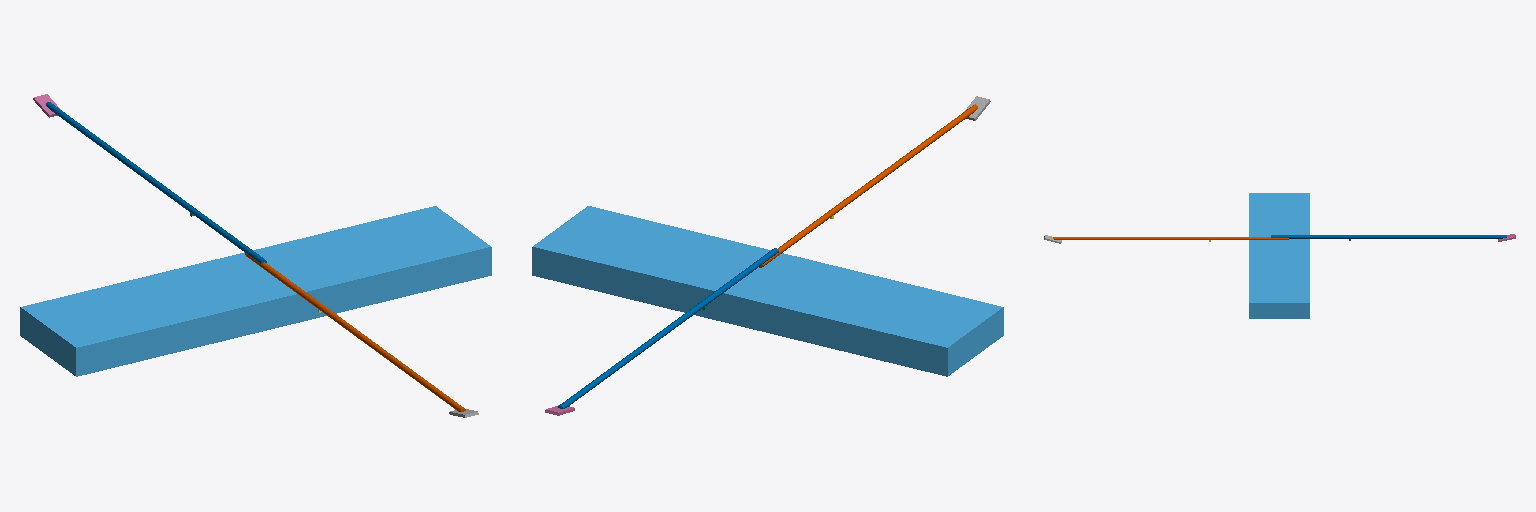
robot.urdf — myboat:
<?xml version="1.0" encoding="utf-8"?>
<!-- =================================================================================== -->
<!-- |    This document was autogenerated by xacro from boot1.xacro                    | -->
<!-- |    EDITING THIS FILE BY HAND IS NOT RECOMMENDED                                 | -->
<!-- =================================================================================== -->
<robot name="myboat" xmlns:xacro="http://www.ros.org/wiki/xacro">
  <!-- Constants for robot dimensions -->
  <gazebo>
    <self_collide>1</self_collide>
  </gazebo>
  <!-- ros_control plugin -->
  <gazebo>
    <plugin filename="libgazebo_ros_control.so" name="gazebo_ros_control">
      <robotNamespace>/boot1</robotNamespace>
      <robotSimType>gazebo_ros_control/DefaultRobotHWSim</robotSimType>
    </plugin>
  </gazebo>
  <gazebo reference="skiff">
    <material>Gazebo/Grey</material>
  </gazebo>
  <gazebo reference="starboard_rowlock">
    <mu1>0.01</mu1>
    <mu2>0.01</mu2>
    <material>Gazebo/Red</material>
  </gazebo>
  <gazebo reference="port_rowlock">
    <mu1>0.01</mu1>
    <mu2>0.01</mu2>
    <material>Gazebo/Red</material>
  </gazebo>
  <gazebo reference="starboard_oar">
    <mu1>0.01</mu1>
    <mu2>0.01</mu2>
    <material>Gazebo/Green</material>
  </gazebo>
  <gazebo reference="port_oar">
    <mu1>0.01</mu1>
    <mu2>0.01</mu2>
    <material>Gazebo/Green</material>
  </gazebo>
  <gazebo reference="starboard_blade">
    <mu1>0.01</mu1>
    <mu2>0.01</mu2>
    <material>Gazebo/Indigo</material>
  </gazebo>
  <gazebo reference="port_blade">
    <mu1>0.01</mu1>
    <mu2>0.01</mu2>
    <material>Gazebo/Indigo</material>
  </gazebo>
  <material name="black">
    <color rgba="0.0 0.0 0.0 1.0"/>
  </material>
  <material name="blue">
    <color rgba="0.0 0.0 0.8 1.0"/>
  </material>
  <material name="green">
    <color rgba="0.0 0.8 0.0 1.0"/>
  </material>
  <material name="grey">
    <color rgba="0.2 0.2 0.2 1.0"/>
  </material>
  <material name="orange">
    <color rgba="1.0 0.423529411765 0.0392156862745 1.0"/>
  </material>
  <material name="brown">
    <color rgba="0.870588235294 0.811764705882 0.764705882353 1.0"/>
  </material>
  <material name="red">
    <color rgba="0.8 0.0 0.0 1.0"/>
  </material>
  <material name="white">
    <color rgba="1.0 1.0 1.0 1.0"/>
  </material>
  <joint name="starboard_rowlock_joint" type="revolute">
    <parent link="skiff"/>
    <child link="starboard_rowlock"/>
    <origin rpy="0.0  0.0 0.0" xyz="0.0 0.8 0.32"/>
    <axis xyz="0 0 1"/>
    <limit effort="2000.0" lower="-1.4" upper="1.4" velocity="1.0"/>
  </joint>
  <joint name="port_rowlock_joint" type="revolute">
    <parent link="skiff"/>
    <child link="port_rowlock"/>
    <origin rpy="0.0  0.0 0.0" xyz="0.0 -0.8 0.3"/>
    <axis xyz="0 0 1"/>
    <limit effort="2000.0" lower="-1.4" upper="1.4" velocity="1.0"/>
  </joint>
  <joint name="starboard_rowlock_oar_joint" type="revolute">
    <parent link="starboard_rowlock"/>
    <child link="starboard_oar"/>
    <origin rpy="0.0  1.57079632679 -1.57079632679" xyz="0.0 0.0   0.02"/>
    <axis xyz="0 1 0"/>
    <limit effort="1000.0" lower="-0.4" upper="0.0" velocity="1.0"/>
  </joint>
  <joint name="port_rowlock_oar_joint" type="revolute">
    <parent link="port_rowlock"/>
    <child link="port_oar"/>
    <origin rpy="0.0  1.57079632679 -1.57079632679" xyz="0.0 0.0   0.02"/>
    <axis xyz="0 1 0"/>
    <limit effort="1000.0" lower="0.0" upper="0.4" velocity="1.0"/>
  </joint>
  <joint name="starboard_blade_joint" type="revolute">
    <parent link="starboard_oar"/>
    <child link="starboard_blade"/>
    <origin rpy="0 0  0.0" xyz="0.0 0.0   -1.8"/>
    <axis xyz="0 1 0"/>
    <limit effort="1000.0" lower="-1.5" upper="-1.2" velocity="1.0"/>
  </joint>
  <joint name="port_blade_joint" type="revolute">
    <parent link="port_oar"/>
    <child link="port_blade"/>
    <origin rpy="0.0  0 0.0" xyz="0.0 0.0   1.8"/>
    <axis xyz="0 1 0"/>
    <limit effort="1000.0" lower="-2.0" upper="-1.7" velocity="1.0"/>
  </joint>
  <link name="base_link"/>
  <!-- Dummy for gazebo   -->
  <joint name="dummy" type="fixed">
    <parent link="base_link"/>
    <child link="skiff"/>
  </joint>
  <link name="skiff">
    <inertial>
      <mass value="15"/>
      <origin rpy="0 0 0" xyz="0.0 0.0 0.1"/>
      <inertia ixx="0.6" ixy="0" ixz="0" iyy="11" iyz="0" izz="11.8"/>
    </inertial>
    <collision>
      <origin rpy="0 0 0" xyz="0.0 0.0   0.1"/>
      <geometry>
        <box size="3.0 0.7 0.2"/>
      </geometry>
    </collision>
    <visual>
      <!-- should be a nice skull shape including riggers-->
      <origin rpy="0 0 0" xyz="0.0 0.0   0.1"/>
      <geometry>
        <box size="3.0 0.7 0.2"/>
      </geometry>
    </visual>
  </link>
  <link name="starboard_rowlock">
    <inertial>
      <mass value="0.1"/>
      <origin rpy="0 0 0" xyz="0.0 0.0 0.0"/>
      <inertia ixx="0.00007" ixy="0" ixz="0" iyy="0.00007" iyz="0" izz="0.000007"/>
    </inertial>
    <collision>
      <origin rpy="0 0 0" xyz="0.0 0.0   0.0"/>
      <geometry>
        <box size="0.02 0.02 0.04"/>
      </geometry>
    </collision>
    <visual>
      <origin rpy="0 0 0" xyz="0.0 0.0   0.0"/>
      <geometry>
        <box size="0.02 0.02 0.04"/>
      </geometry>
    </visual>
  </link>
  <link name="port_rowlock">
    <inertial>
      <mass value="0.1"/>
      <origin rpy="0 0 0" xyz="0.0 0.0 0.0"/>
      <inertia ixx="0.00007" ixy="0" ixz="0" iyy="0.00007" iyz="0" izz="0.000007"/>
    </inertial>
    <collision>
      <origin rpy="0 0 0" xyz="0.0 0.0   0.0"/>
      <geometry>
        <box size="0.02 0.02 0.04"/>
      </geometry>
    </collision>
    <visual>
      <origin rpy="0 0 0" xyz="0.0 0.0   0.0"/>
      <geometry>
        <box size="0.02 0.02 0.04"/>
      </geometry>
    </visual>
  </link>
  <link name="starboard_oar">
    <inertial>
      <mass value="1.0"/>
      <origin rpy="0 0 0" xyz="0 0 -0.45"/>
      <inertia ixx="0.6" ixy="0" ixz="0" iyy="0.6" iyz="0" izz="0.001"/>
    </inertial>
    <collision>
      <origin rpy="0 0 0" xyz="0   0   -0.45"/>
      <geometry>
        <cylinder length="2.7" radius="0.02"/>
      </geometry>
    </collision>
    <visual>
      <origin rpy="0 0 0" xyz="0   0.0   -0.45"/>
      <geometry>
        <cylinder length="2.7" radius="0.02"/>
      </geometry>
    </visual>
  </link>
  <link name="port_oar">
    <inertial>
      <mass value="1.0"/>
      <origin rpy="0 0 0" xyz="0 0 0.45"/>
      <inertia ixx="0.6" ixy="0" ixz="0" iyy="0.6" iyz="0" izz="0.001"/>
    </inertial>
    <collision>
      <origin rpy="0 0 0" xyz="0   0   0.45"/>
      <geometry>
        <cylinder length="2.7" radius="0.02"/>
      </geometry>
    </collision>
    <visual>
      <origin rpy="0 0 0" xyz="0   0   0.45"/>
      <geometry>
        <cylinder length="2.7" radius="0.02"/>
      </geometry>
    </visual>
  </link>
  <link name="starboard_blade">
    <inertial>
      <mass value="1.0"/>
      <origin rpy="0 0 0" xyz="0 0 -0.01"/>
      <inertia ixx="0.34" ixy="0" ixz="0" iyy="0.34" iyz="0" izz="0.73"/>
    </inertial>
    <collision>
      <origin rpy="0 0 0" xyz="0    0   -0.01"/>
      <geometry>
        <box size="0.1 0.1 0.02"/>
      </geometry>
    </collision>
    <visual>
      <origin rpy="0 0 0" xyz="0    0   -0.01"/>
      <geometry>
        <box size="0.2 0.1 0.02"/>
      </geometry>
    </visual>
  </link>
  <link name="port_blade">
    <inertial>
      <mass value="1.0"/>
      <origin rpy="0 0 0" xyz="0 0 -0.01"/>
      <inertia ixx="0.34" ixy="0" ixz="0" iyy="0.34" iyz="0" izz="0.73"/>
    </inertial>
    <collision>
      <origin rpy="0 0 0" xyz="0    0   -0.01"/>
      <geometry>
        <box size="0.1 0.1 0.02"/>
      </geometry>
    </collision>
    <visual>
      <origin rpy="0 0 0" xyz="0    0.0   -0.01"/>
      <geometry>
        <box size="0.2 0.1 0.02"/>
      </geometry>
    </visual>
  </link>
  <transmission name="tran1">
    <type>transmission_interface/SimpleTransmission</type>
    <joint name="starboard_rowlock_joint">
      <hardwareInterface>hardware_interface/EffortJointInterface</hardwareInterface>
    </joint>
    <actuator name="motor1">
      <mechanicalReduction>1</mechanicalReduction>
    </actuator>
  </transmission>
  <transmission name="tran2">
    <type>transmission_interface/SimpleTransmission</type>
    <joint name="port_rowlock_joint">
      <hardwareInterface>hardware_interface/EffortJointInterface</hardwareInterface>
    </joint>
    <actuator name="motor2">
      <mechanicalReduction>1</mechanicalReduction>
    </actuator>
  </transmission>
  <transmission name="tran3">
    <type>transmission_interface/SimpleTransmission</type>
    <joint name="starboard_rowlock_oar_joint">
      <hardwareInterface>hardware_interface/EffortJointInterface</hardwareInterface>
    </joint>
    <actuator name="motor3">
      <mechanicalReduction>1</mechanicalReduction>
    </actuator>
  </transmission>
  <transmission name="tran4">
    <type>transmission_interface/SimpleTransmission</type>
    <joint name="port_rowlock_oar_joint">
      <hardwareInterface>hardware_interface/EffortJointInterface</hardwareInterface>
    </joint>
    <actuator name="motor4">
      <mechanicalReduction>1</mechanicalReduction>
    </actuator>
  </transmission>
  <transmission name="tran5">
    <type>transmission_interface/SimpleTransmission</type>
    <joint name="starboard_blade_joint">
      <hardwareInterface>hardware_interface/EffortJointInterface</hardwareInterface>
    </joint>
    <actuator name="motor5">
      <mechanicalReduction>1</mechanicalReduction>
    </actuator>
  </transmission>
  <transmission name="tran6">
    <type>transmission_interface/SimpleTransmission</type>
    <joint name="port_blade_joint">
      <hardwareInterface>hardware_interface/EffortJointInterface</hardwareInterface>
    </joint>
    <actuator name="motor6">
      <mechanicalReduction>1</mechanicalReduction>
    </actuator>
  </transmission>
</robot>

--- Render facts (derived) ---
The picture shows the robot from 3 angles, left to right: view 1: azimuth 30°, elevation 25°; view 2: azimuth 150°, elevation 25°; view 3: azimuth 270°, elevation 25°; orthographic projection.
Robot: myboat — 8 links, 7 joints (6 revolute, 1 fixed); root link base_link; default pose: joints at zero except 2 at the middle of their limits (starboard_blade_joint = -1.35, port_blade_joint = -1.85).
Links seen in each view (by area): view 1: skiff, starboard_oar, port_oar; view 2: skiff, starboard_oar, port_oar; view 3: skiff, starboard_oar, port_oar.
Boxes of the visible links, bbox=[...] form: skiff: bbox=[20, 206, 491, 376]; starboard_oar: bbox=[46, 102, 266, 263]; port_oar: bbox=[245, 253, 465, 411]; skiff: bbox=[532, 206, 1003, 376]; starboard_oar: bbox=[558, 248, 778, 408]; port_oar: bbox=[759, 104, 977, 267]; skiff: bbox=[1249, 193, 1309, 318]; starboard_oar: bbox=[1271, 235, 1506, 238]; port_oar: bbox=[1053, 237, 1288, 239].
Size in the robot's own frame: 3 by 5.4 by 0.3619 metres.
Geometry: primitives only (box / cylinder / sphere), no mesh files.